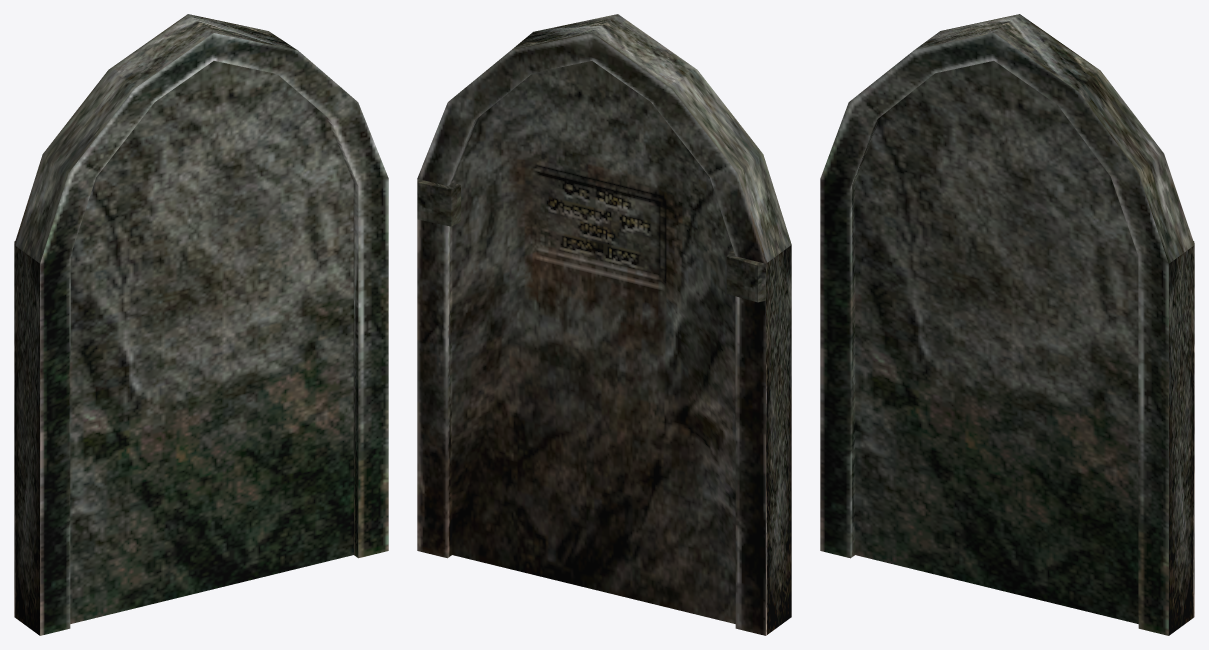
The model's file is cem_tomb3b.glb.
3 renders of one model, left to right at view 1: azimuth 30°, elevation 25°; view 2: azimuth 150°, elevation 25°; view 3: azimuth 330°, elevation 25°, orthographic.
Visible parts, largest first — view 1: cem_tomb3b-col; view 2: cem_tomb3b-col; view 3: cem_tomb3b-col.
Boxes of the visible parts, x1,y1,x2,y2 form: cem_tomb3b-col: [14, 14, 388, 635]; cem_tomb3b-col: [417, 14, 791, 635]; cem_tomb3b-col: [820, 14, 1194, 635].
Size of the model in its own units: 1.3 by 2 by 0.1921.
2 materials, 2 textured.
